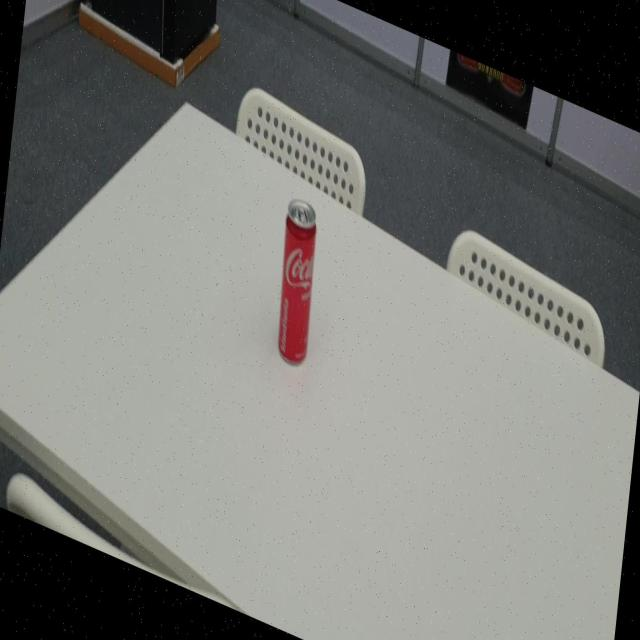coca-cola: (270, 193, 323, 376)
